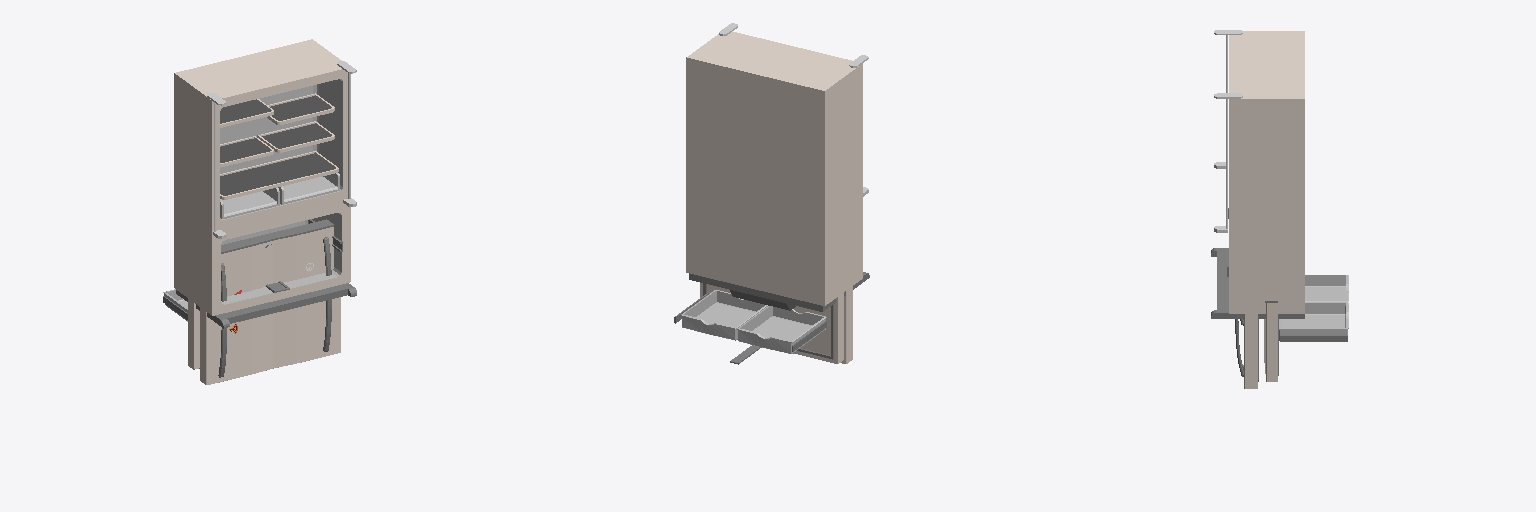
3 renders of one model, left to right at view 1: azimuth 30°, elevation 25°; view 2: azimuth 150°, elevation 25°; view 3: azimuth 270°, elevation 25°, orthographic.
Parts seen in each view (by area): view 1: FridgeBodyMesh_0, Mesh_4, Mesh_5, fridge_freezerdoor_15_3; view 2: FridgeBodyMesh_0, fridge_freezerdoor_15_3, Mesh_5; view 3: FridgeBodyMesh_0, fridge_freezerdoor_15_3, Mesh_4.
Part boxes in pixels (left/top/right/bottom): FridgeBodyMesh_0: left=174, top=39, right=356, bottom=328; Mesh_4: left=265, top=219, right=340, bottom=368; Mesh_5: left=200, top=235, right=272, bottom=384; fridge_freezerdoor_15_3: left=163, top=289, right=199, bottom=369; FridgeBodyMesh_0: left=686, top=23, right=869, bottom=311; fridge_freezerdoor_15_3: left=674, top=283, right=843, bottom=364; Mesh_5: left=841, top=286, right=852, bottom=363; FridgeBodyMesh_0: left=1211, top=30, right=1304, bottom=318; fridge_freezerdoor_15_3: left=1264, top=275, right=1348, bottom=381; Mesh_4: left=1235, top=314, right=1258, bottom=388.
Bounding box in the file's own units: 1.27 × 3.38 × 1.1.
7 materials, 2 textured.